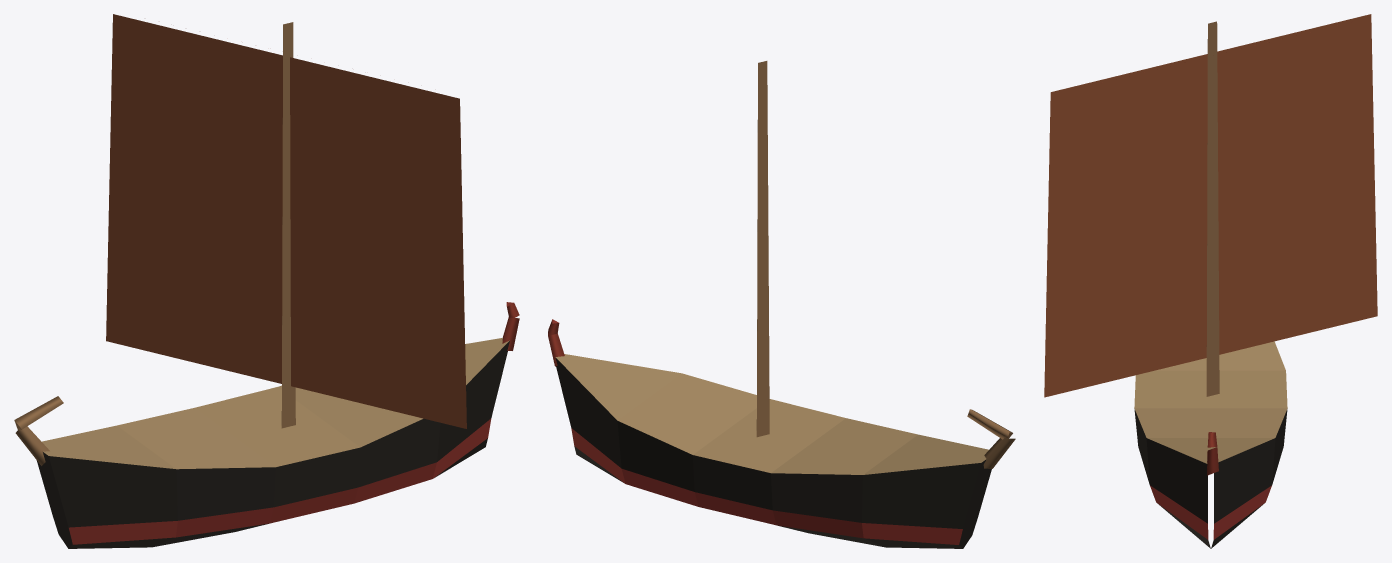
Rendered from hull_eur_greek_boat_lod.glb.
3 renders of one model, left to right at view 1: azimuth 30°, elevation 25°; view 2: azimuth 150°, elevation 25°; view 3: azimuth 270°, elevation 25°, orthographic. The views are drawn at different scales.
Parts seen in each view (by area): view 1: lod; view 2: lod; view 3: lod.
Part boxes in pixels (bbox=[...]): lod: bbox=[14, 14, 519, 548]; lod: bbox=[548, 61, 1015, 548]; lod: bbox=[1044, 14, 1377, 548].
Bounding box in the file's own units: 8.07 × 7.6 × 5.
